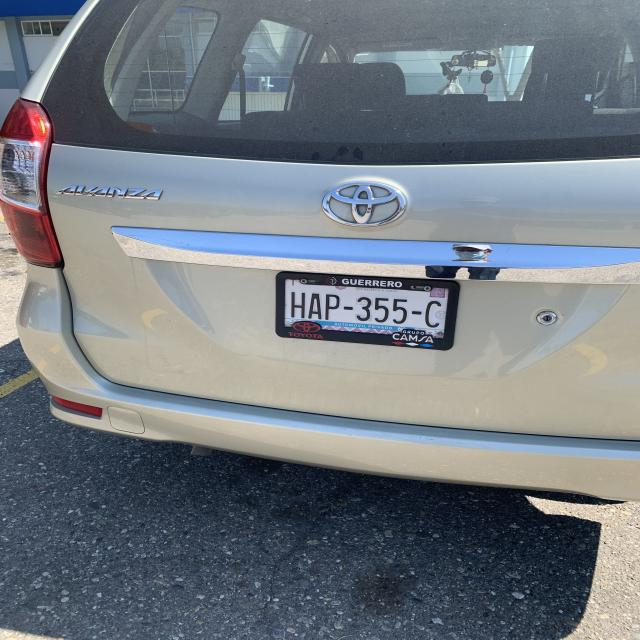placa: (282, 286, 462, 330)
